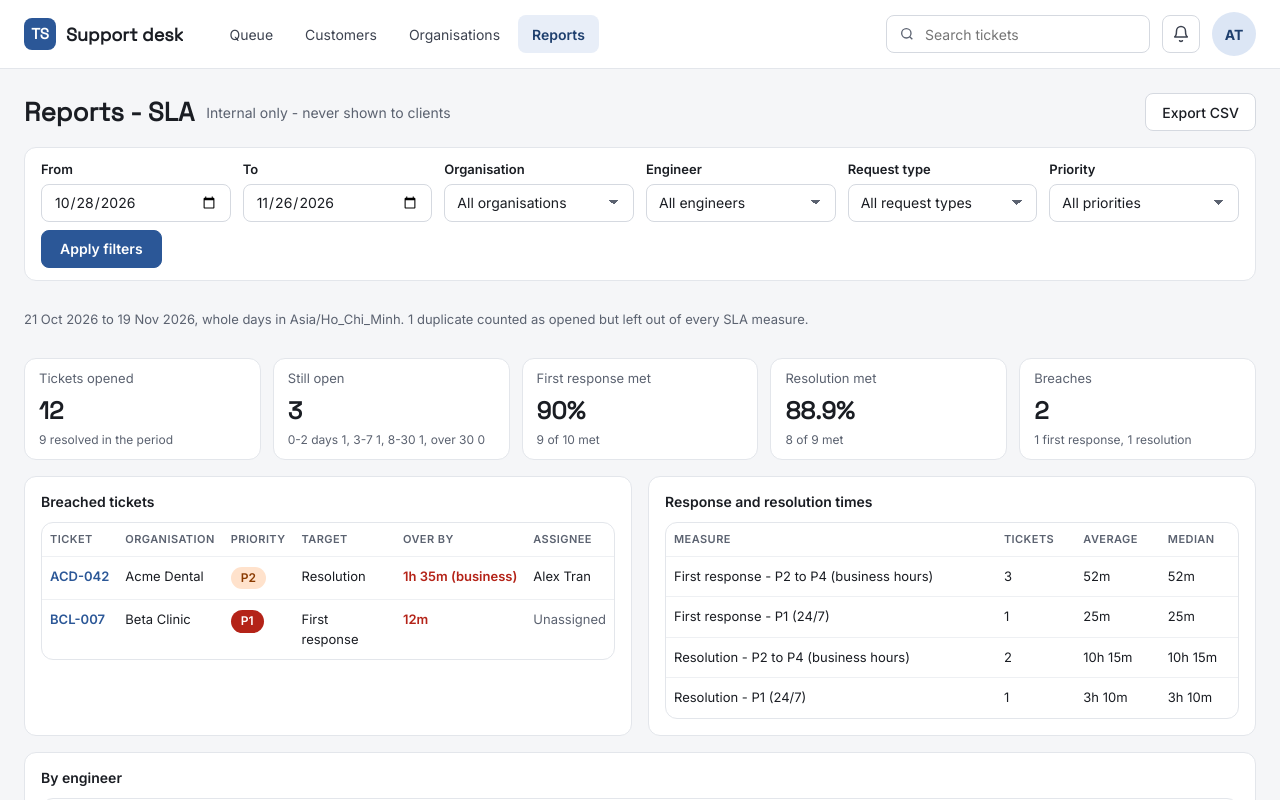
Scenario: Reports - SLA page › a refused CSV export pops up the server's message
Expected: the list named "Summary" is shown, [24,358,1256,460]
Click the button "Export CSV" at (1201, 112), box [1145,93,1256,131]
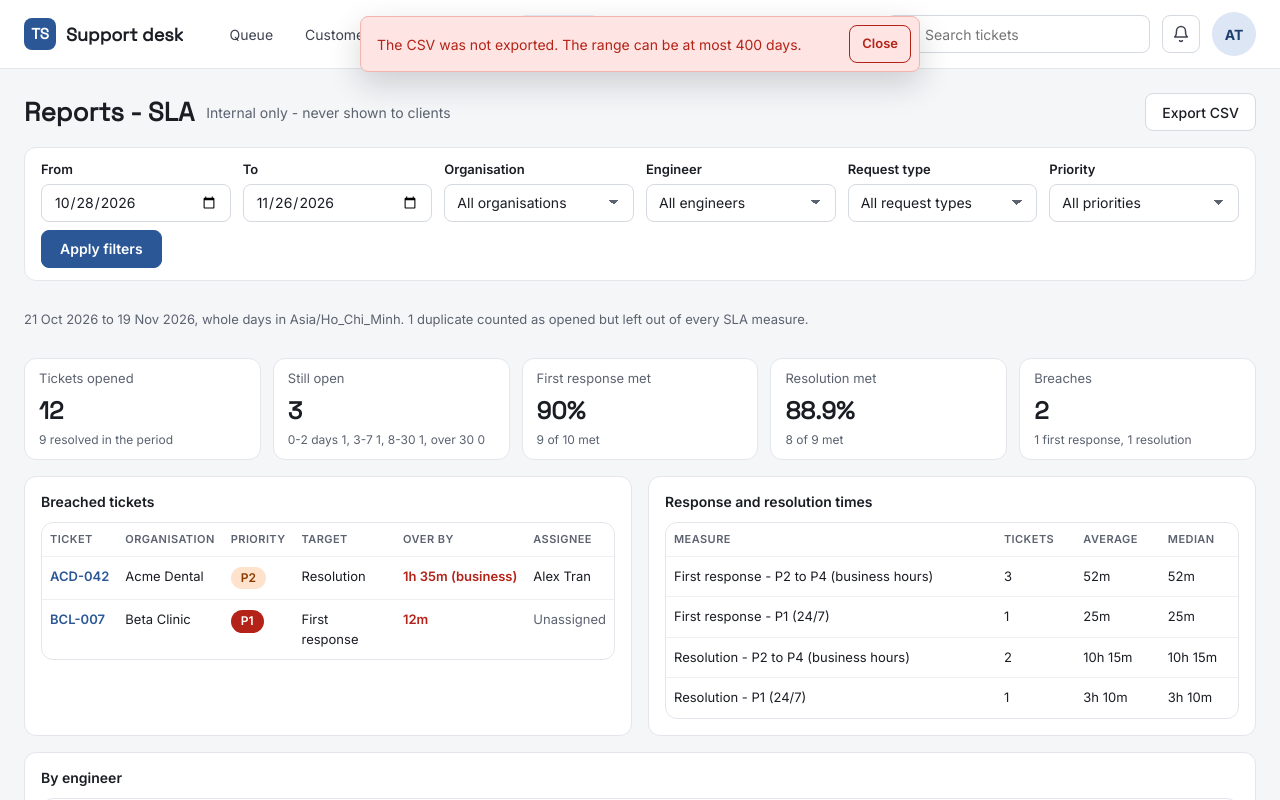
Expected: the text "The CSV was not exported. The range can be at most 400 days." is shown, [377,34,837,54]
